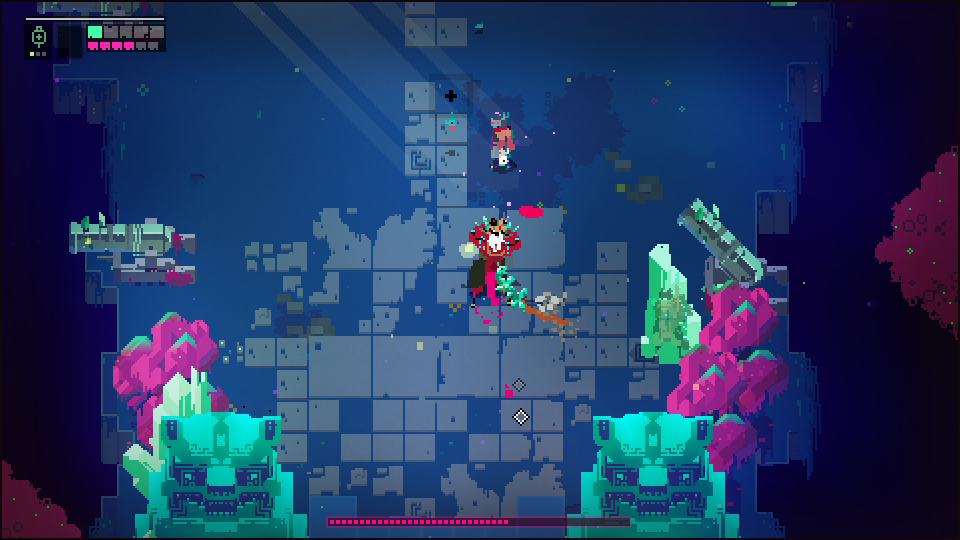hanged_man: (467, 214, 545, 321)
player: (485, 110, 515, 171)
